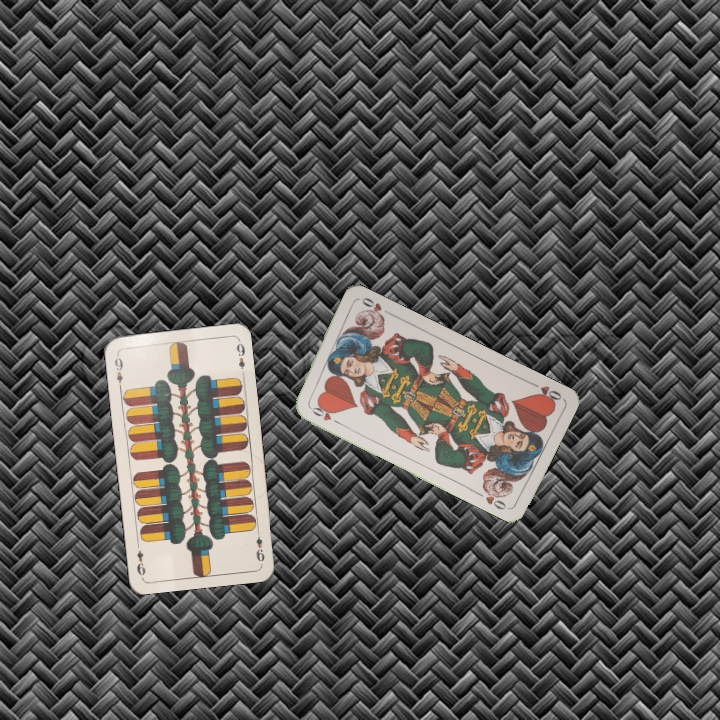E9: (111, 350, 126, 391), (252, 525, 267, 564)
HO: (526, 378, 564, 406), (305, 401, 342, 427)
